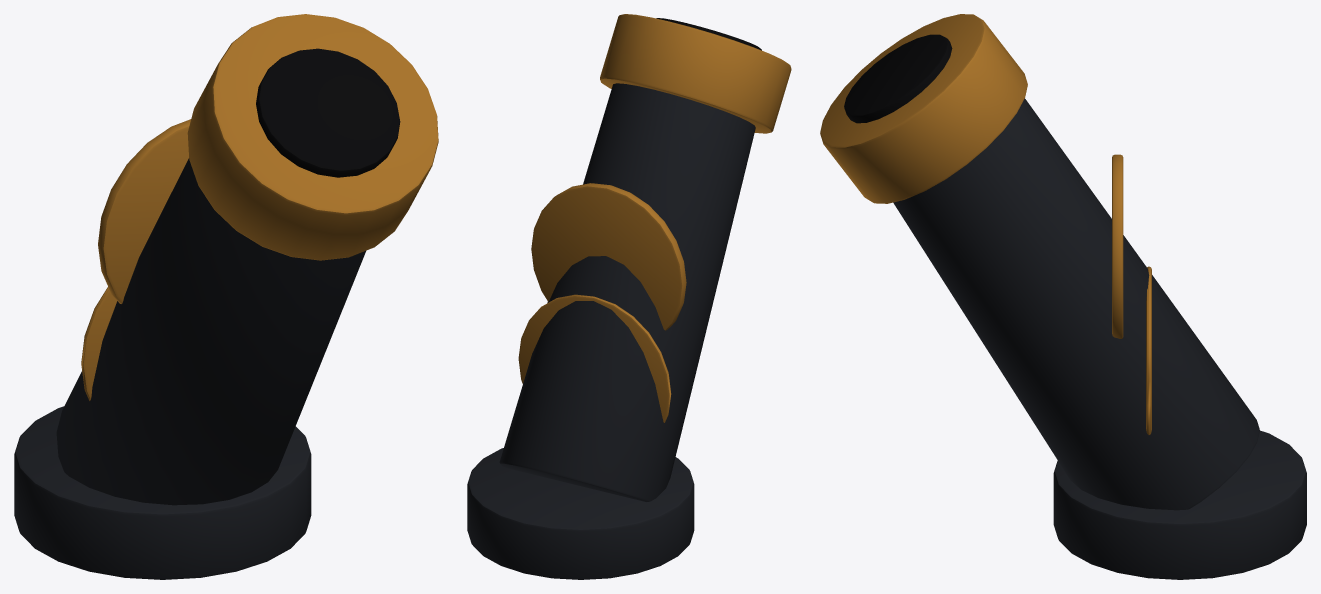
Rendered from MortarTube.obj.
3 views of the same model, side by side, from view 1: azimuth 30°, elevation 25°; view 2: azimuth 150°, elevation 25°; view 3: azimuth 270°, elevation 25° (orthographic). The views are drawn at different scales.
Visible parts, largest first — view 1: MortarTube; view 2: MortarTube; view 3: MortarTube.
Part boxes in pixels (x1,y1,x2,y2): MortarTube: [14, 14, 438, 579]; MortarTube: [467, 14, 791, 579]; MortarTube: [820, 14, 1306, 579].
Size of the model in its own units: 0.4 by 0.8699 by 0.7692.
